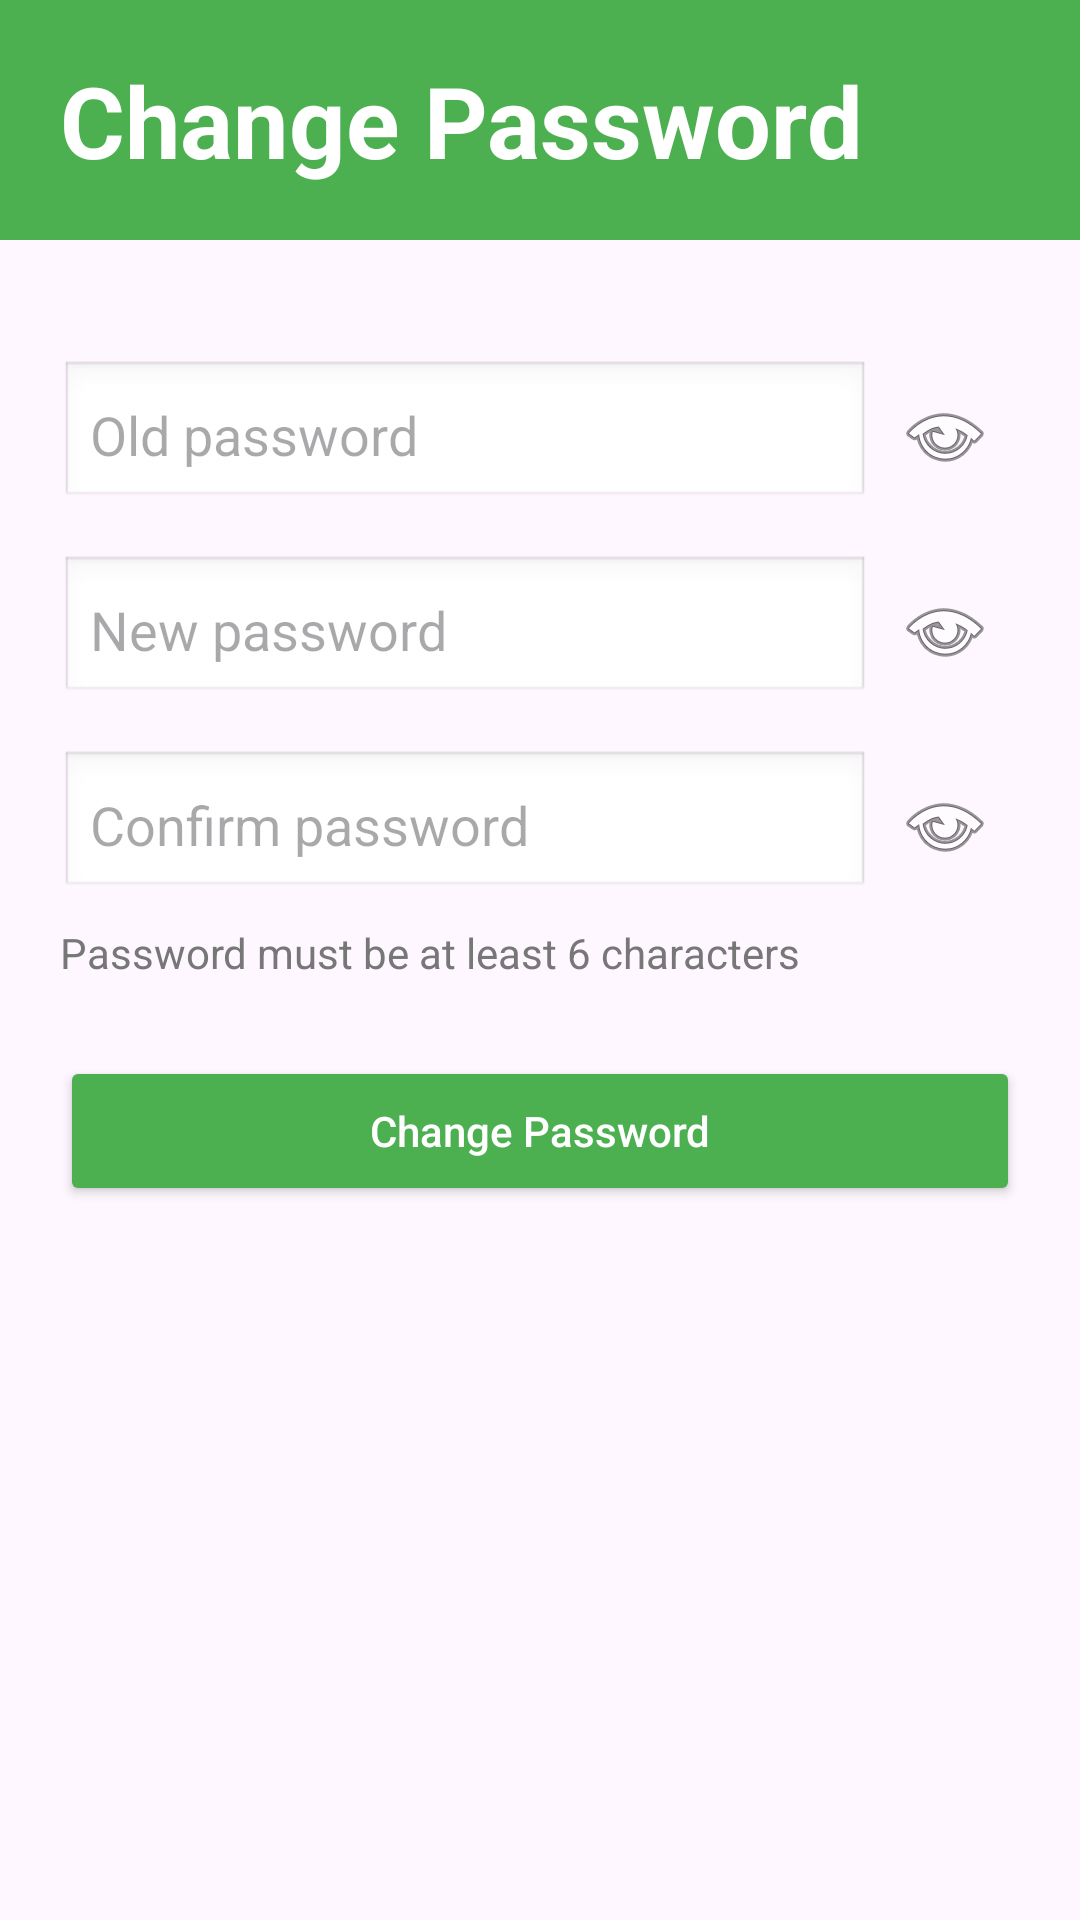

Icon bounding boxes for this 1080*1920 phone screenshot, format [x1=x1, y1=y1, x2=x2, y2=y2]:
view: [x1=906, y1=413, x2=984, y2=462], [x1=906, y1=608, x2=984, y2=657], [x1=906, y1=803, x2=984, y2=852]
